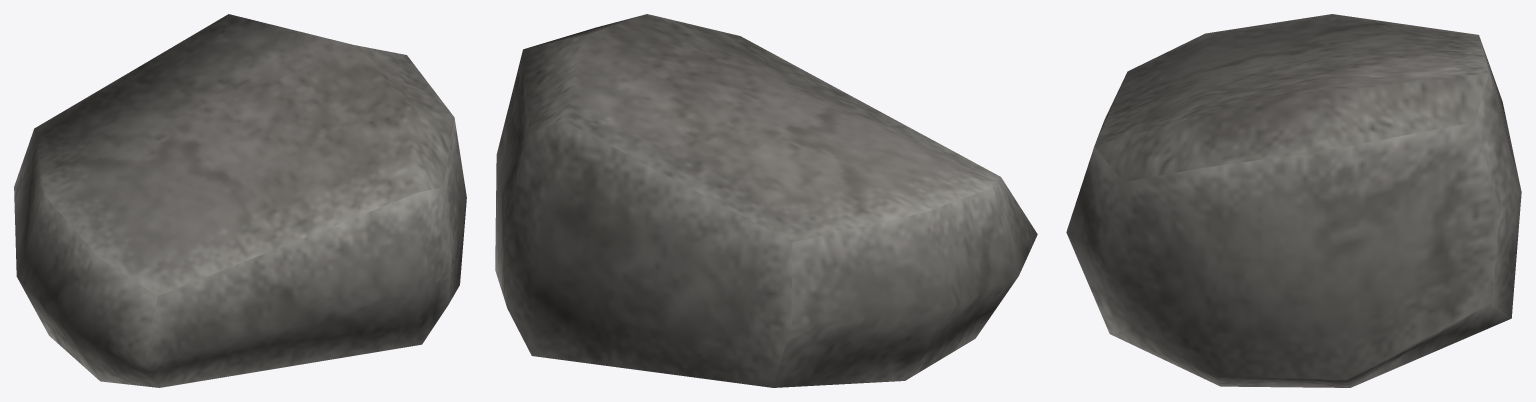
The model's file is Rock_03.fbx.
3 renders of one model, left to right at view 1: azimuth 30°, elevation 25°; view 2: azimuth 150°, elevation 25°; view 3: azimuth 270°, elevation 25°, orthographic. The views are drawn at different scales.
Parts seen in each view (by area): view 1: Rock_03; view 2: Rock_03; view 3: Rock_03.
Part boxes in pixels (x1,y1,x2,y2): Rock_03: (14,14,466,387); Rock_03: (495,14,1037,387); Rock_03: (1066,14,1521,387).
Size of the model in its own units: 0.8323 by 0.4866 by 0.7047.
Materials: 1 (1 with a texture image).
